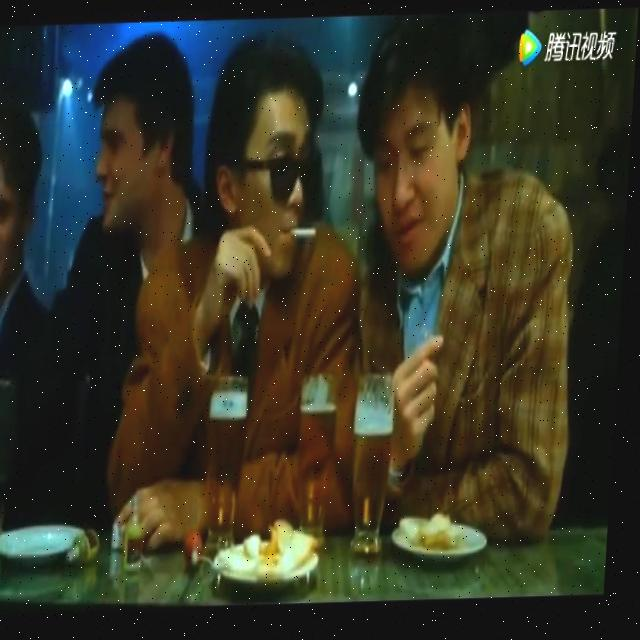cigarette: (289, 230, 320, 241)
